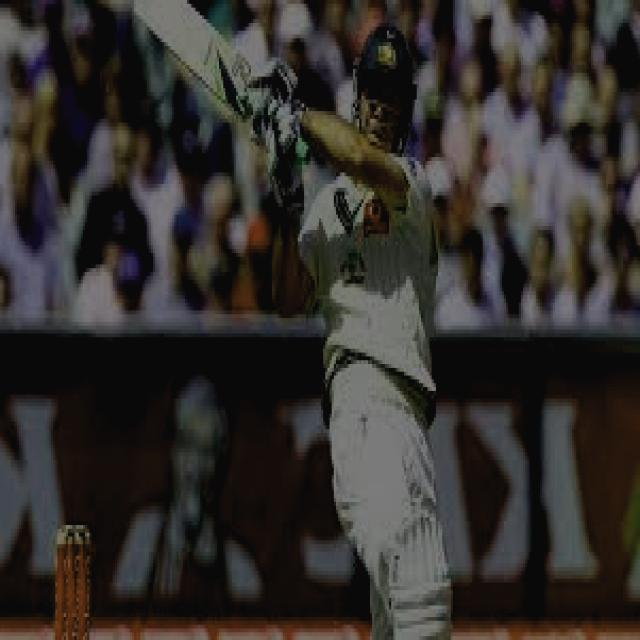toe: (131, 0, 184, 14)
